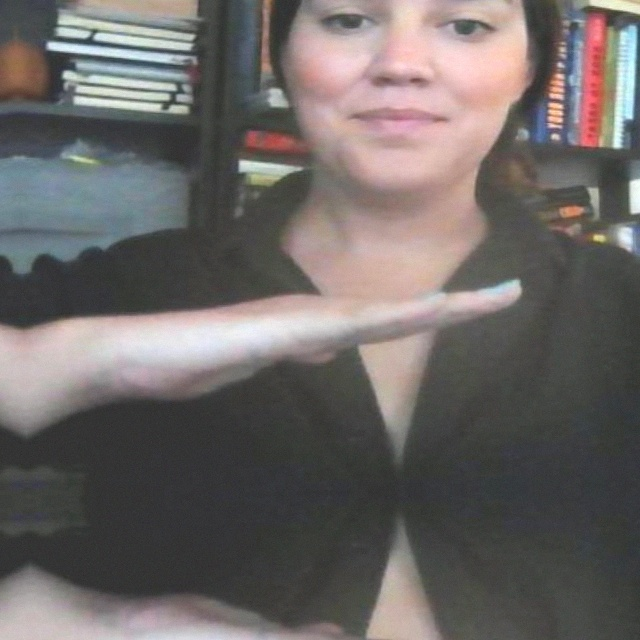Paper: (70, 262, 530, 422)
